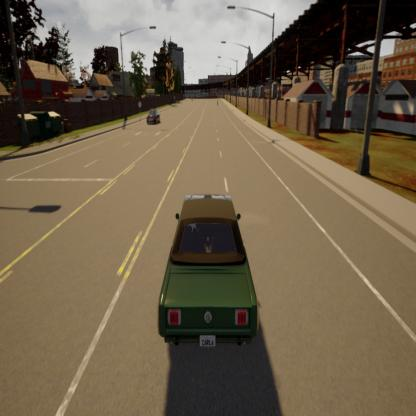Cars: (159, 196, 258, 352), (146, 107, 160, 125), (216, 97, 219, 108)
